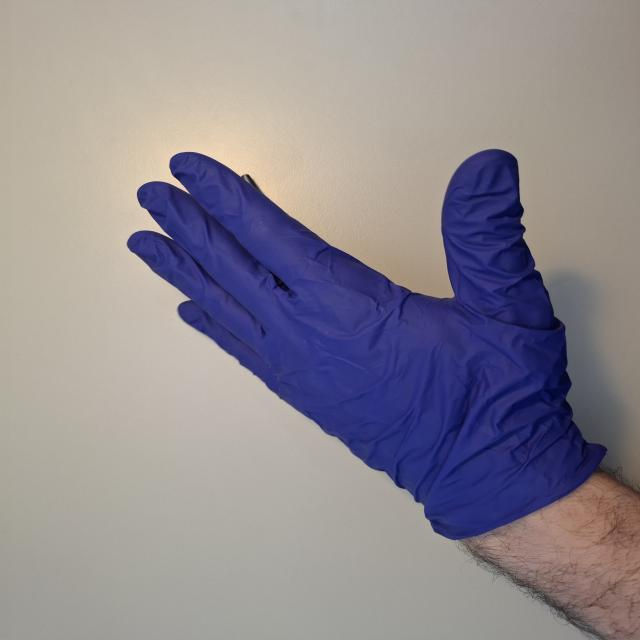glove_on: (125, 146, 590, 540)
